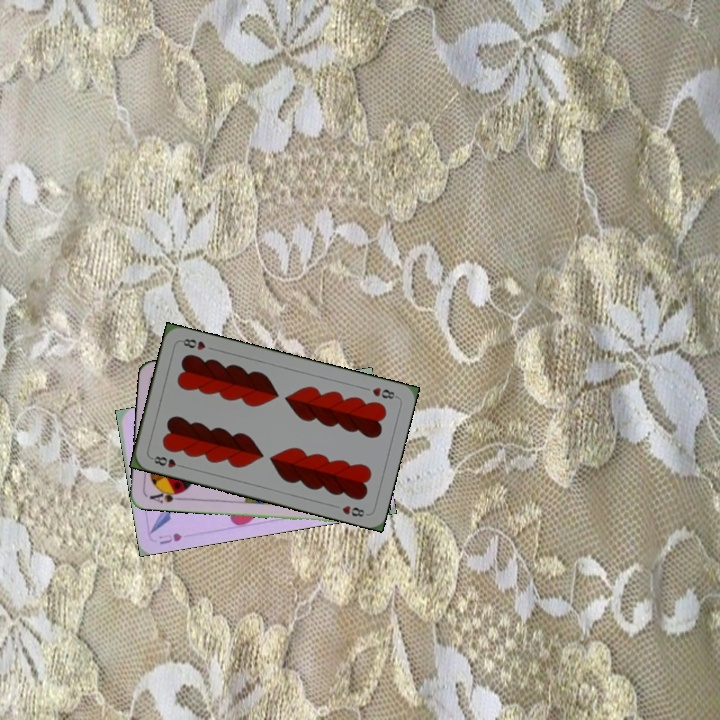H8: (147, 452, 187, 470), (368, 383, 400, 402)
HU: (155, 529, 184, 547)
SA: (146, 485, 186, 506)
